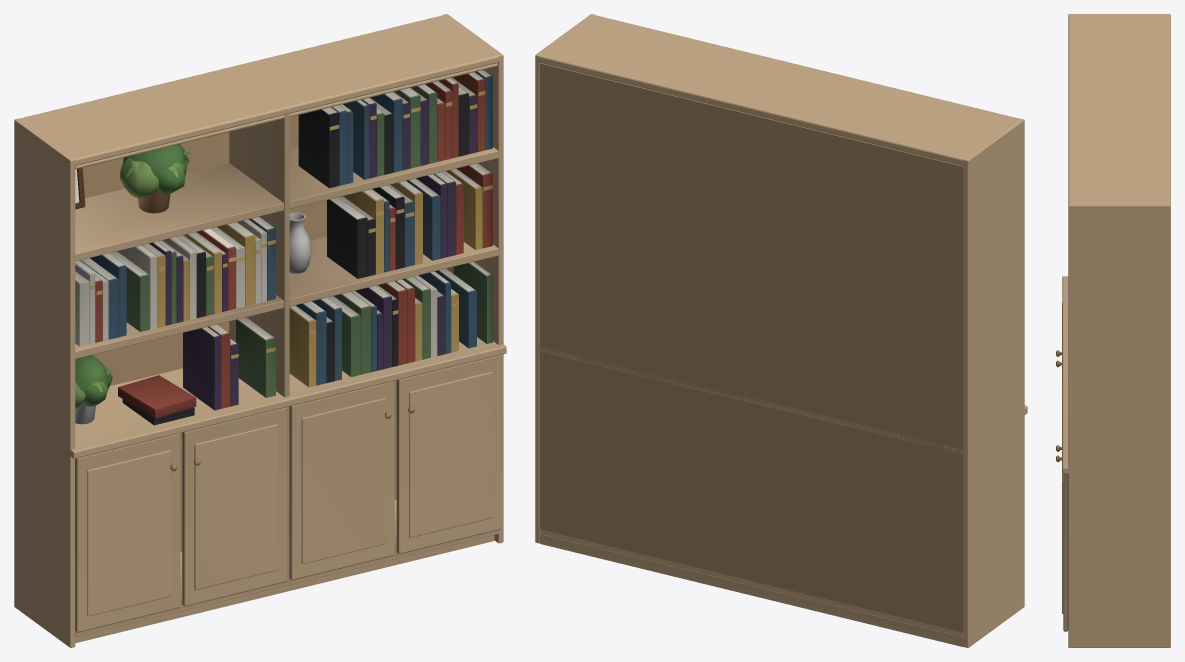
Rendered from bookcaseWide.glb.
3 renders of one model, left to right at view 1: azimuth 30°, elevation 25°; view 2: azimuth 150°, elevation 25°; view 3: azimuth 270°, elevation 25°, orthographic. The views are drawn at different scales.
Visible parts, largest first — view 1: bookcaseWide, book; view 2: bookcaseWide; view 3: bookcaseWide.
Boxes of the visible parts, left/top/right/bottom form: bookcaseWide: left=14, top=14, right=506, bottom=647; book: left=197, top=228, right=235, bottom=310; bookcaseWide: left=535, top=14, right=1027, bottom=647; bookcaseWide: left=1056, top=14, right=1170, bottom=647.
Size of the model in its own units: 1.86 by 2 by 0.47.
